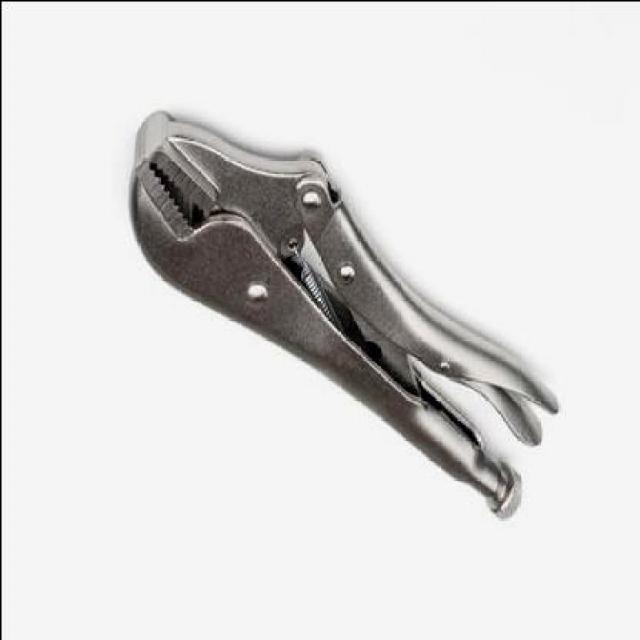pliers: (121, 108, 557, 520)
